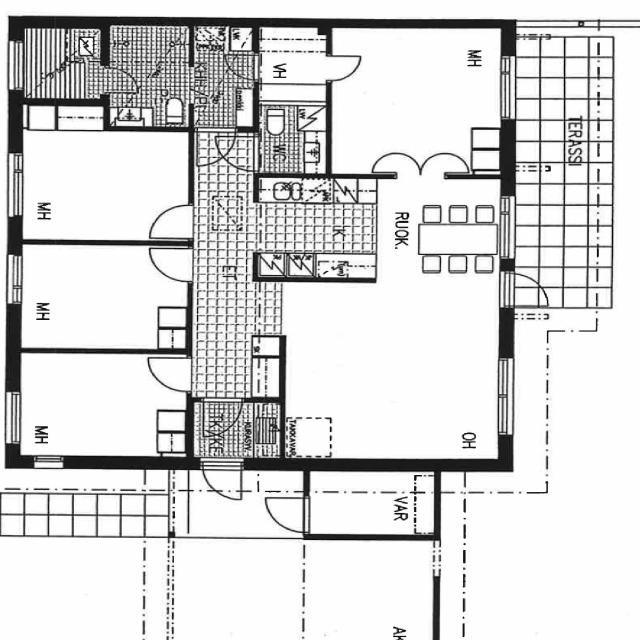door: (500, 272, 557, 308), (203, 458, 241, 504), (262, 497, 310, 531), (213, 137, 260, 171), (150, 204, 194, 238), (150, 248, 194, 282), (204, 397, 243, 435), (197, 126, 235, 164), (151, 359, 194, 391), (101, 67, 141, 93), (326, 56, 363, 82), (224, 56, 260, 80), (420, 152, 445, 178), (396, 152, 420, 178)
